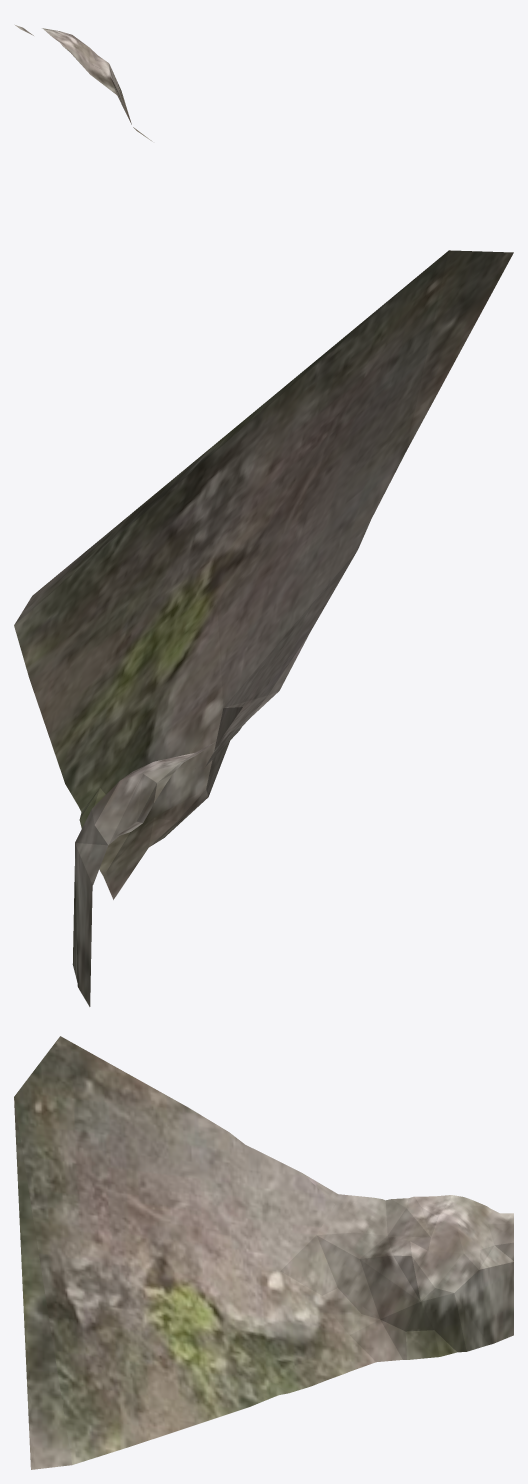
3 views of the same model, one above another, from view 1: azimuth 30°, elevation 25°; view 2: azimuth 150°, elevation 25°; view 3: azimuth 270°, elevation 25° (orthographic). The views are drawn at different scales.
Bounding box in the file's own units: 1.82 × 1.67 × 2.63.
Materials: 1 (1 with a texture image).
